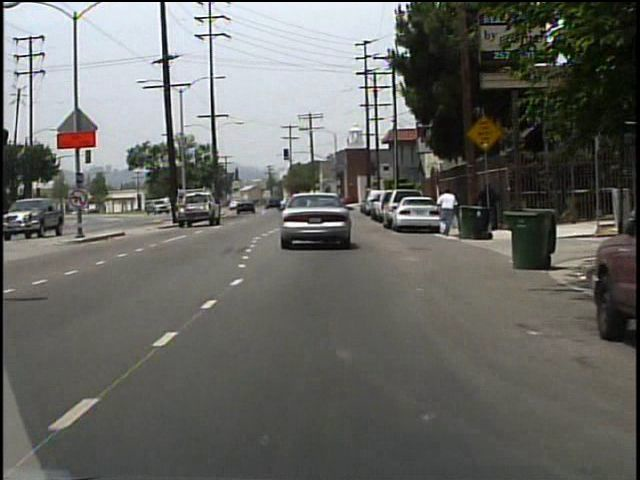person: (436, 187, 459, 238)
